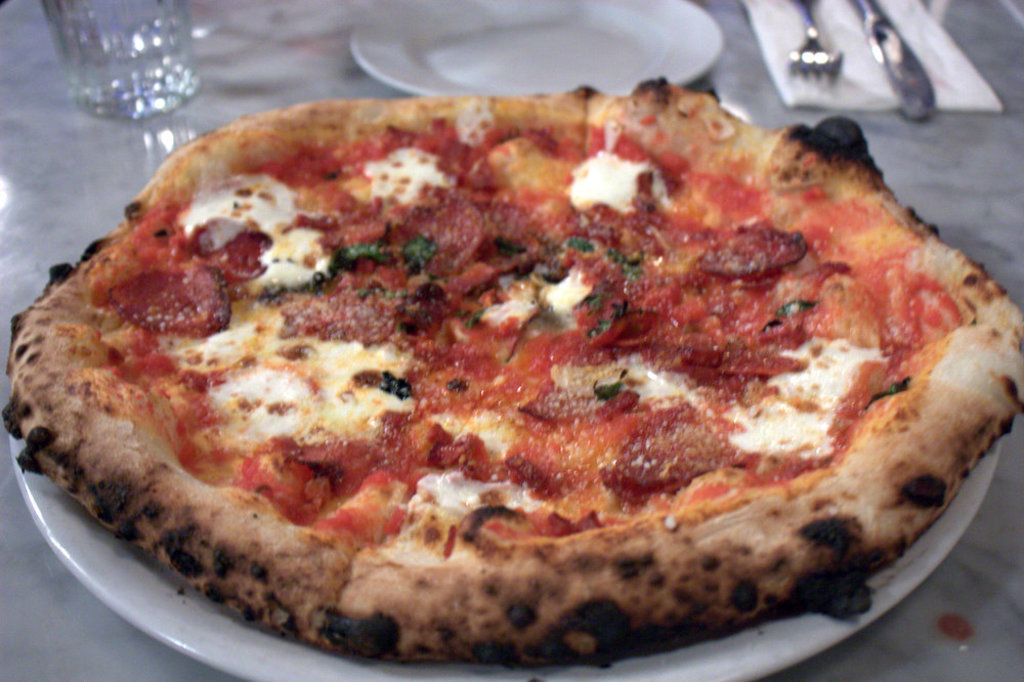Pizza: (0, 73, 1022, 668)
